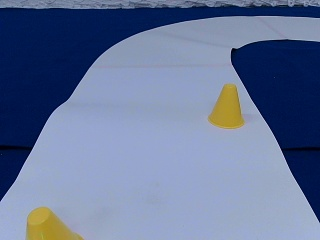cone: (25, 206, 82, 239), (209, 85, 244, 128)
